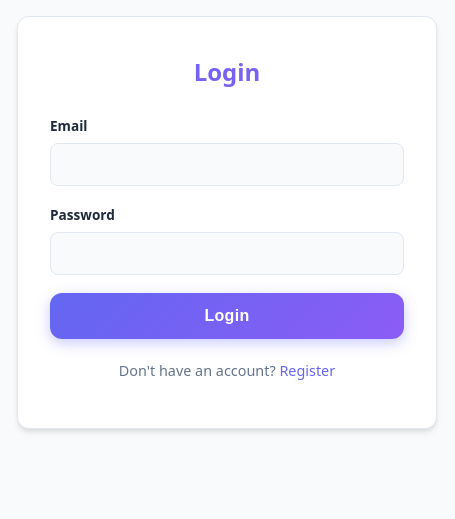
Test case: Login › shows error when fields are empty
The image size is (455, 519).
Click the button "Login": [227, 316] box top-left (50, 293), bottom-right (404, 339)
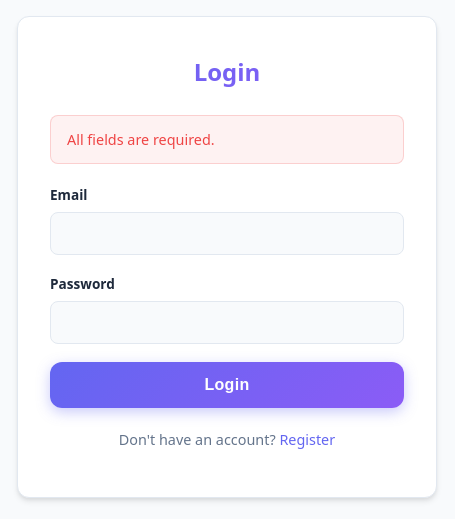
Now the text "All fields are required." is shown, box top-left (50, 115), bottom-right (404, 164)
